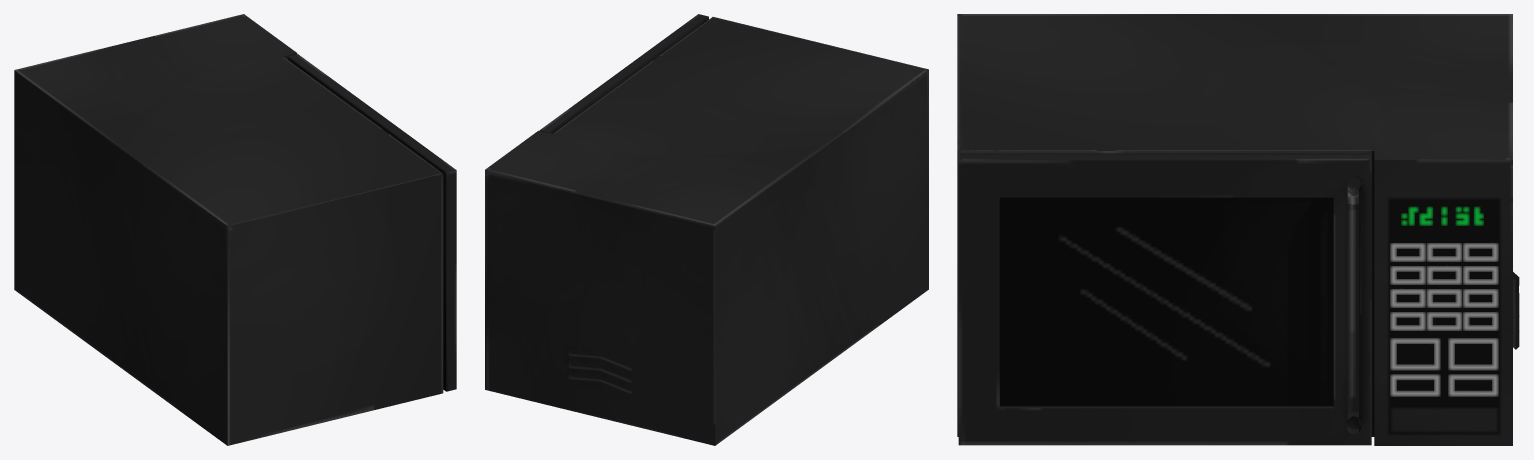
Rendered from microwave.fbx.
The picture shows the model from 3 angles, left to right: view 1: azimuth 30°, elevation 25°; view 2: azimuth 150°, elevation 25°; view 3: azimuth 270°, elevation 25°; orthographic projection. The views are drawn at different scales.
Parts seen in each view (by area): view 1: Cube.001; view 2: Cube.001; view 3: Cube.001.
Boxes of the visible parts, x1,y1,x2,y2 form: Cube.001: (14,14,456,445); Cube.001: (485,14,928,445); Cube.001: (957,14,1519,445).
Bounding box in the file's own units: 56.16 × 47.32 × 84.26.
